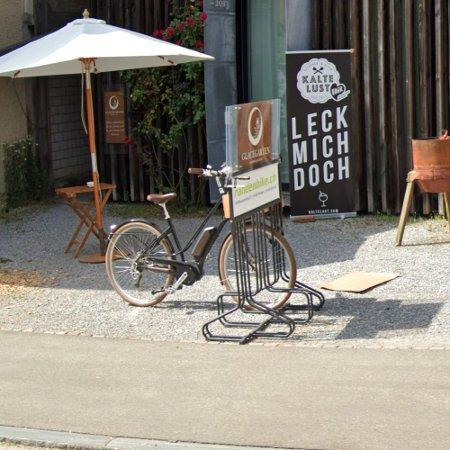bicycles: (105, 162, 281, 306), (218, 225, 297, 310)
